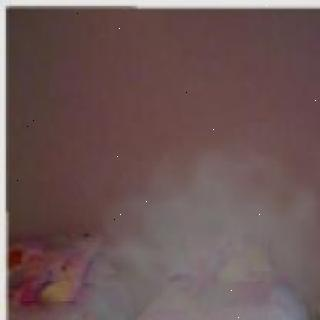smoke: (103, 145, 320, 320)
